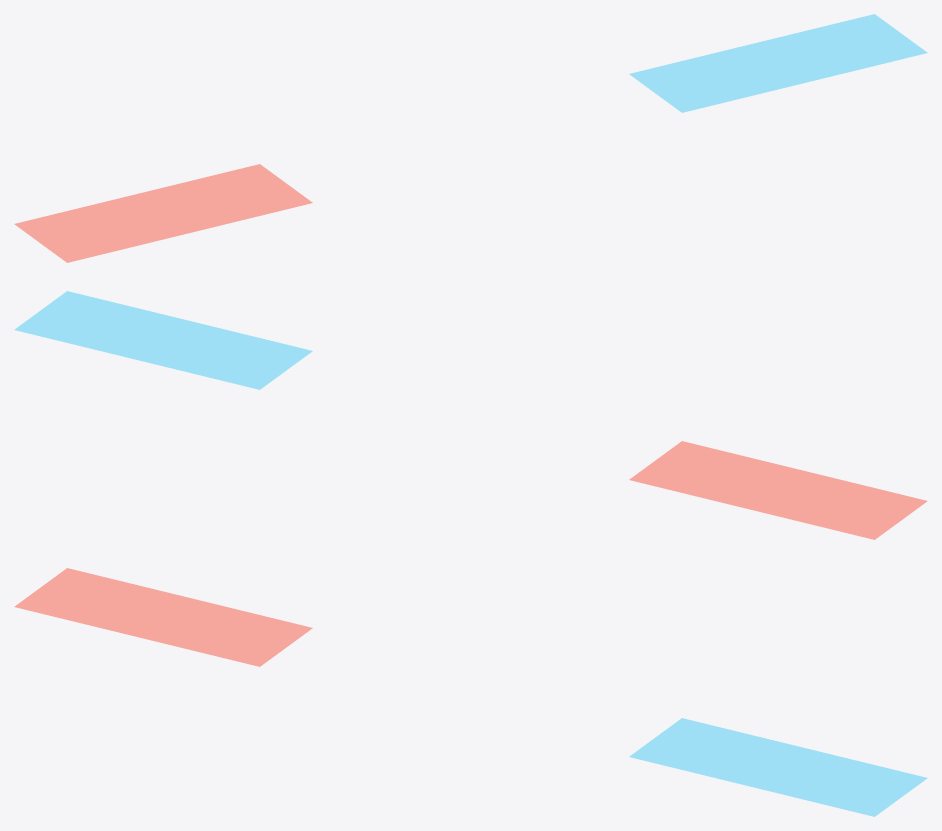
3 renders of one model, top to bottom at view 1: azimuth 30°, elevation 25°; view 2: azimuth 150°, elevation 25°; view 3: azimuth 330°, elevation 25°, orthographic.
Visible parts, largest first — view 1: 412 A Bar 0 Box, 412 A Bar 1 Box; view 2: 412 A Bar 0 Box, 412 A Bar 1 Box; view 3: 412 A Bar 0 Box, 412 A Bar 1 Box.
Part boxes in pixels (x1=…): 412 A Bar 0 Box: x1=14, y1=164, x2=312, y2=262; 412 A Bar 1 Box: x1=629, y1=14, x2=927, y2=112; 412 A Bar 0 Box: x1=629, y1=441, x2=927, y2=539; 412 A Bar 1 Box: x1=14, y1=291, x2=312, y2=389; 412 A Bar 0 Box: x1=14, y1=568, x2=312, y2=666; 412 A Bar 1 Box: x1=629, y1=718, x2=927, y2=816.
Size of what is drawn, in the model's own units: 5.6 by 0 by 0.6.
